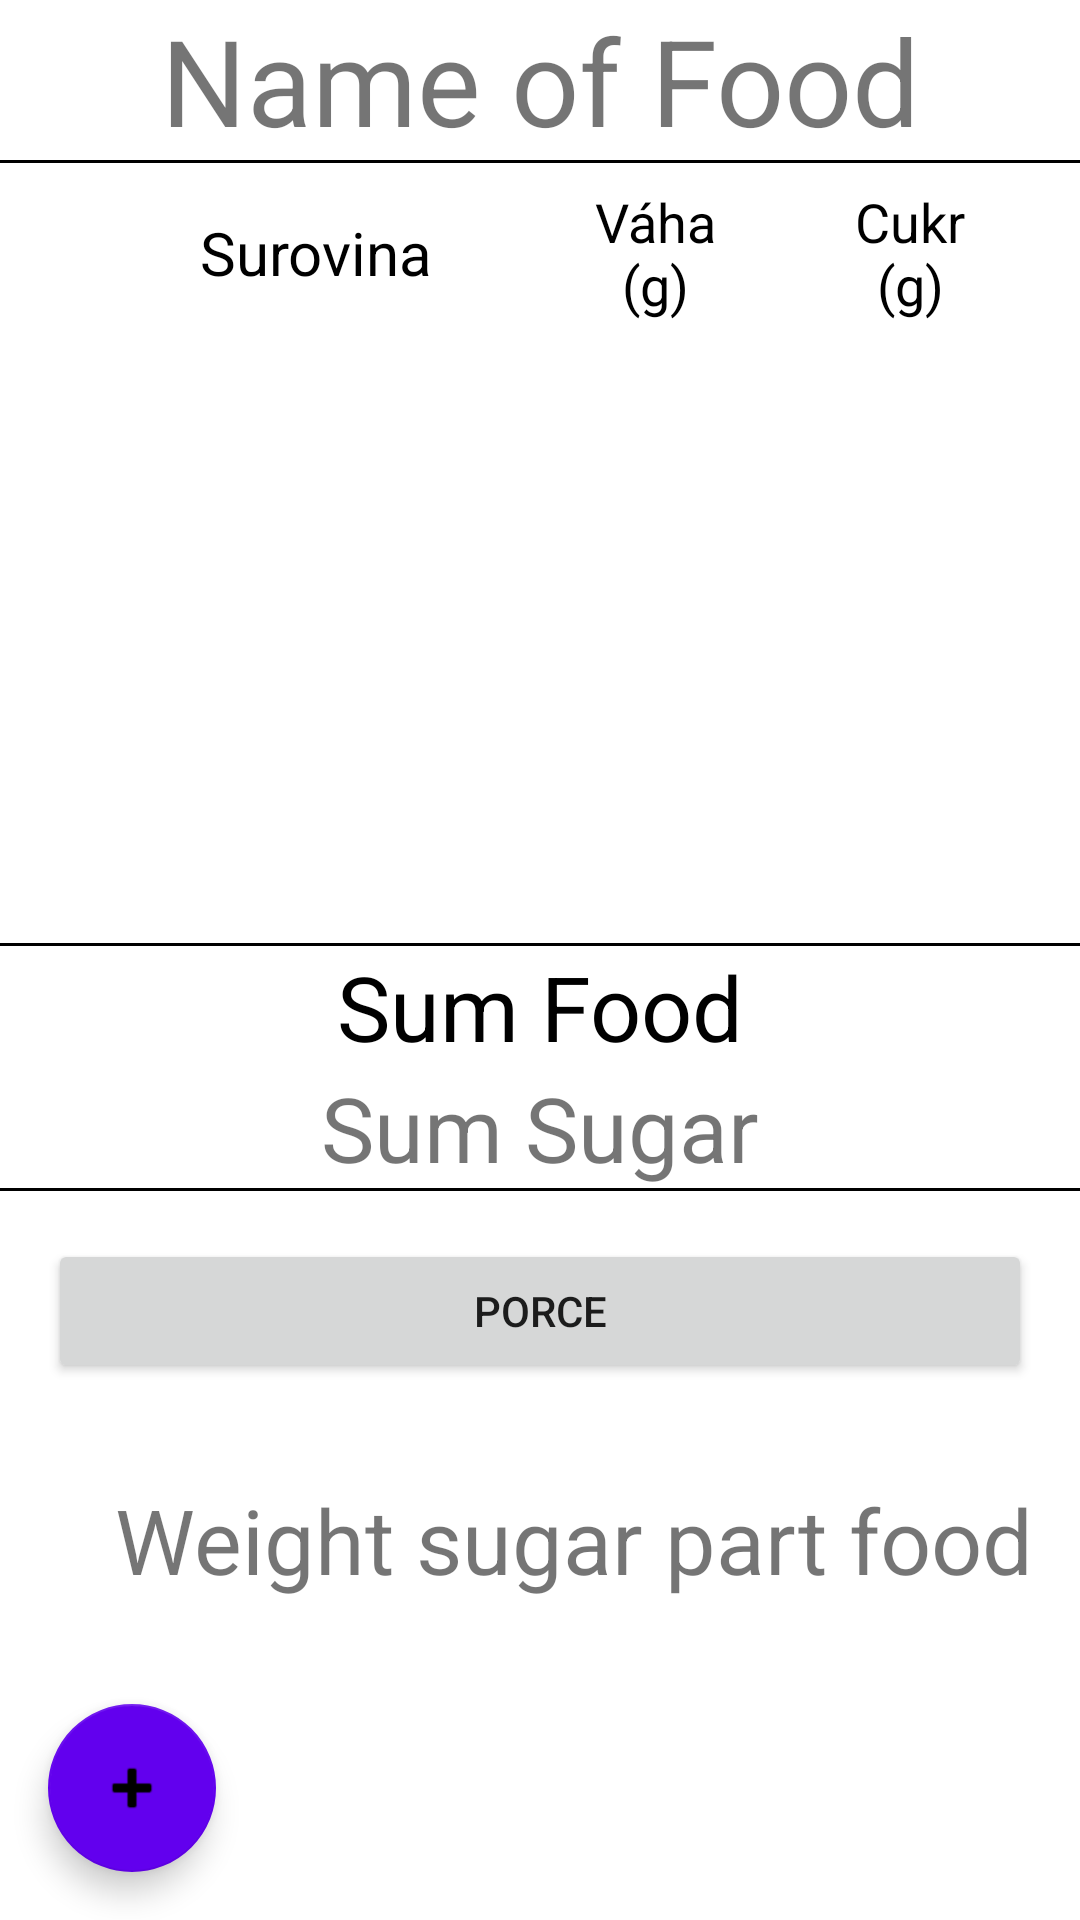

Icon bounding boxes for this 1080px×1920px phone screenshot, format (x1, y1, x2, y2):
add: (48, 1704, 216, 1872)
